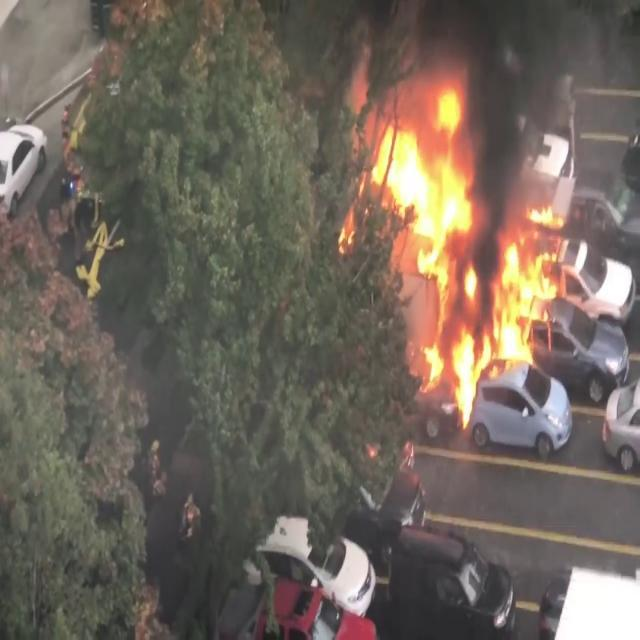Fire: (340, 62, 592, 405)
